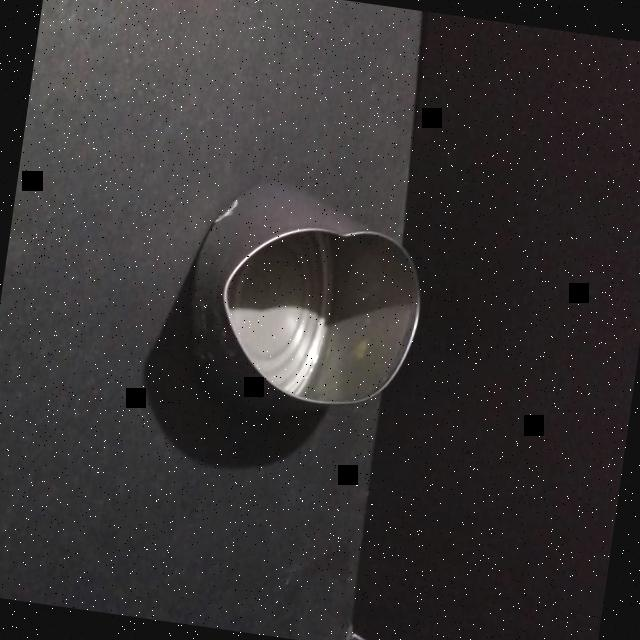can: (174, 170, 438, 417)
